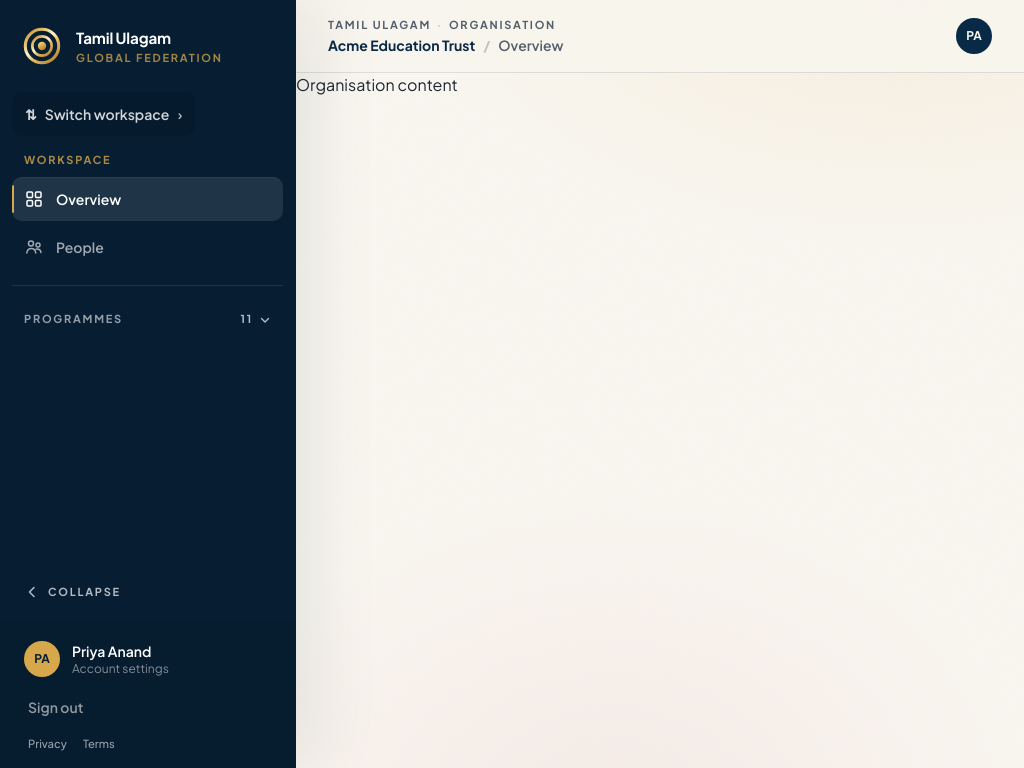
it: WorkspaceShell › shows workspace identity, switcher and local navigation for an authenticated Organisation manager
The image size is (1024, 768).
expect the text "Acme Education Trust" is shown: met, box [328,35,475,55]
expect the text "Organisation" is shown: met, box [449,18,556,31]
Click the button "Programmes 11" at (73, 319), box [12,302,283,338]
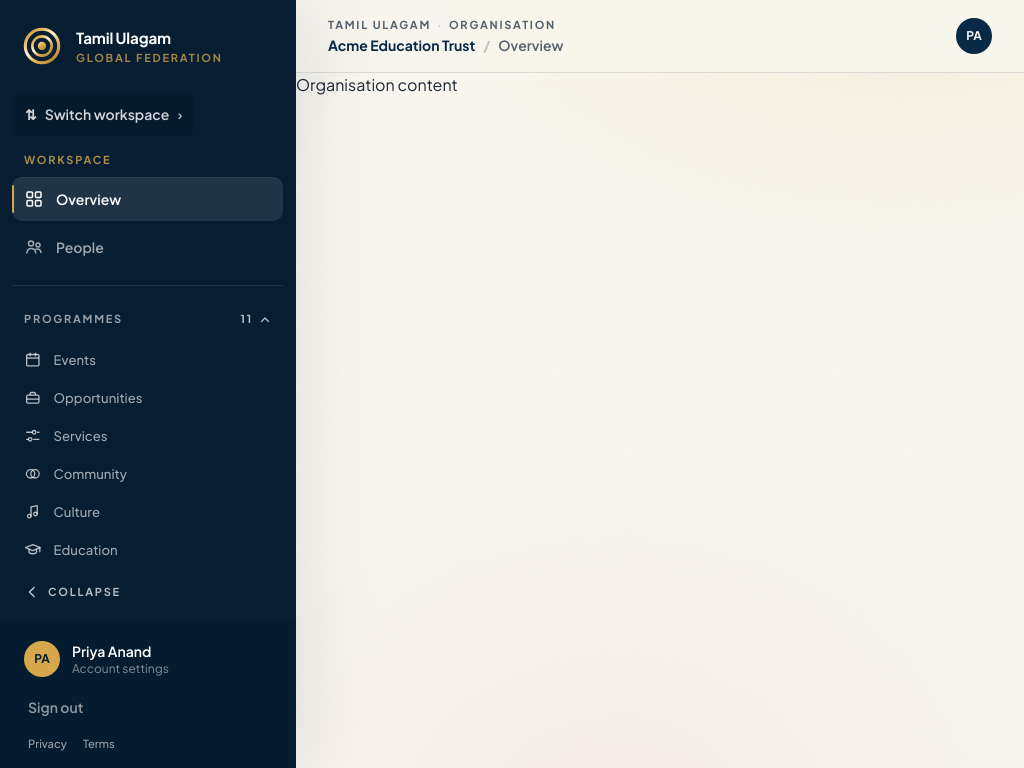
expect the navigation bar named "Tamil Ulagam programmes" shows "Events": met, box [12,342,283,378]
expect the navigation bar named "Tamil Ulagam programmes" shows "Education": met, box [12,532,283,568]
